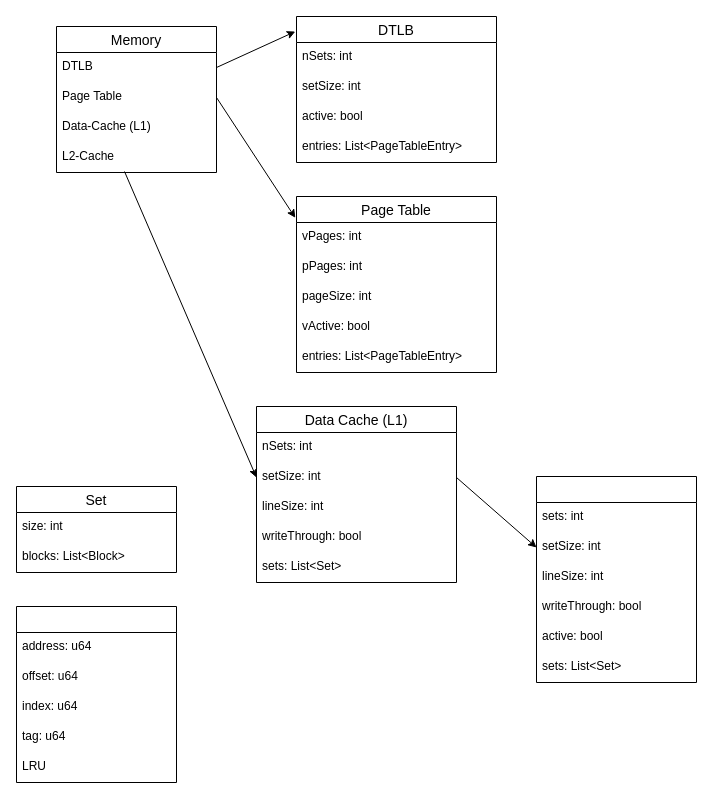
This 713x799 diagram has some shape labels left out. The shapes that lost their labels are listed below. From the top down, each one's box as (x1, y1, x2, y2) in pixels, then its label:
(536, 476, 696, 682): L2 Cache
(16, 606, 176, 782): Block
